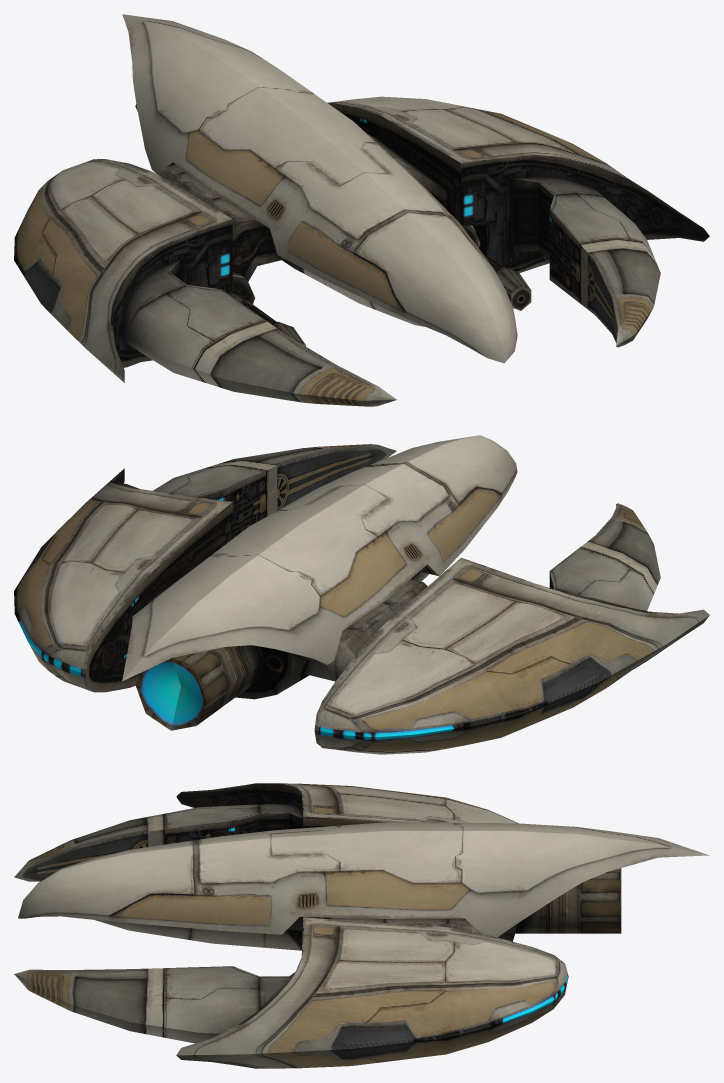
File: 2173_lite.glb
3 renders of one model, top to bottom at view 1: azimuth 30°, elevation 25°; view 2: azimuth 150°, elevation 25°; view 3: azimuth 270°, elevation 25°, orthographic. The views are drawn at different scales.
Visible parts, largest first — view 1: ship; view 2: ship; view 3: ship.
Part boxes in pixels (left/top/right/bottom): ship: left=14, top=14, right=709, bottom=406; ship: left=14, top=435, right=709, bottom=754; ship: left=14, top=783, right=709, bottom=1068.
Bounding box in the file's own units: 0.0694 × 0.0189 × 0.0788.
1 material, 1 textured.
